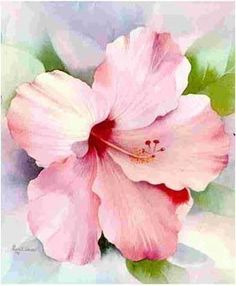Hibiscus: (17, 34, 216, 262)
